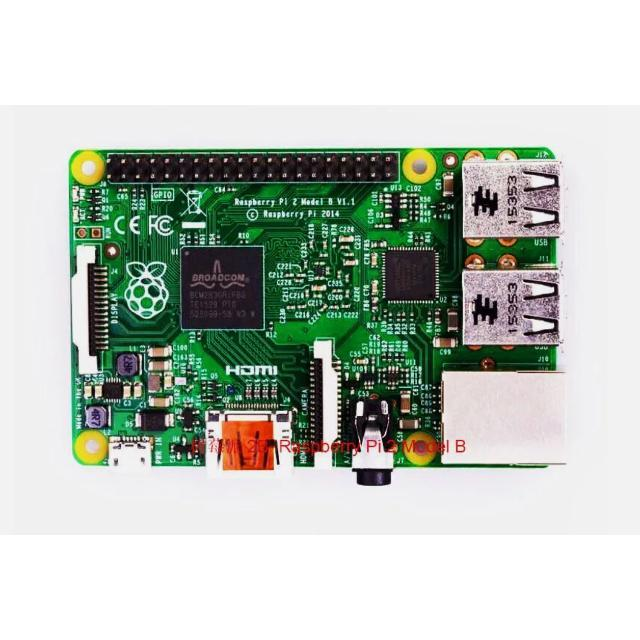Raspberry-Pi-2-B: (70, 148, 567, 485)
